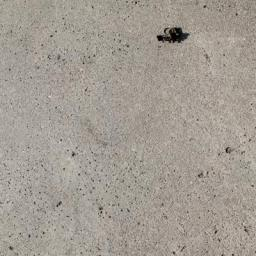FOD: (152, 22, 194, 47)
